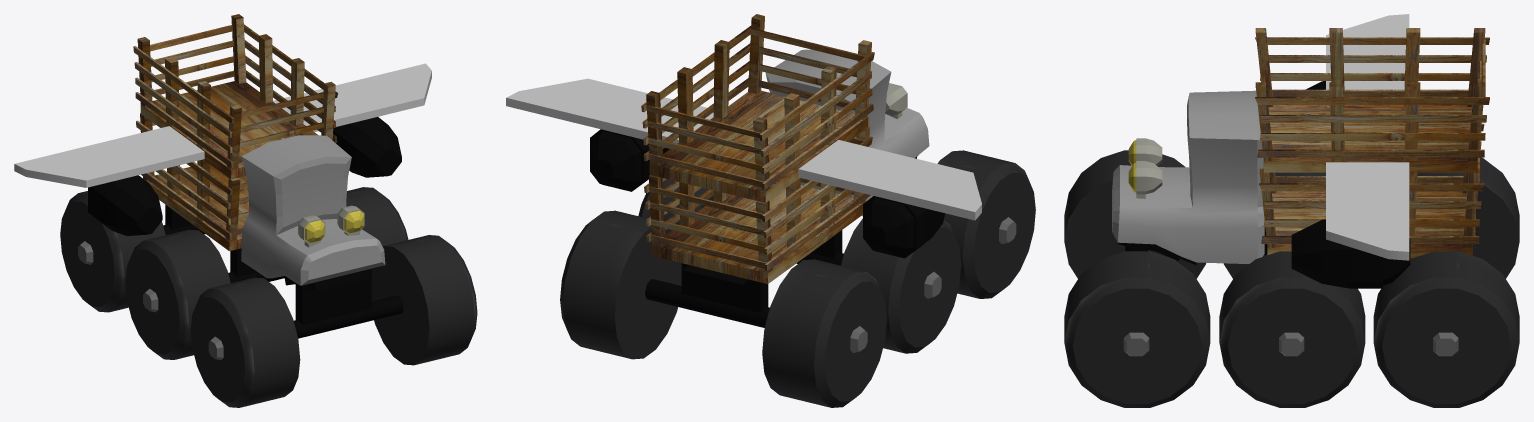
Rendered from Truck4.obj.
The picture shows the model from 3 angles, left to right: view 1: azimuth 30°, elevation 25°; view 2: azimuth 150°, elevation 25°; view 3: azimuth 270°, elevation 25°; orthographic projection. The views are drawn at different scales.
Parts seen in each view (by area): view 1: Box077, Cylinder048, Cylinder049, Cylinder046, Box118, Cylinder045, Box265, Box268, Box120, Cylinder020, Box119, Box121 (+24 smaller); view 2: Cylinder045, Cylinder050, Cylinder048, Cylinder046, Box118, Box268, Box283, Box265, Box120, Box077, Cylinder023, Box119 (+30 smaller); view 3: Cylinder049, Cylinder050, Box077, Cylinder047, Box268, Box120, Cylinder048, Box265, Box121, Cylinder045, Box283, Box118 (+21 smaller).
Boxes of the visible parts, x1,y1,x2,y2 form: Box077: (241,135,385,285); Cylinder048: (190,277,300,407); Cylinder049: (371,235,477,365); Cylinder046: (125,229,230,359); Box118: (14,126,204,187); Cylinder045: (60,191,165,312); Box265: (137,14,335,169); Box268: (140,81,318,179); Box120: (273,63,431,132); Cylinder020: (293,269,403,338); Box119: (88,175,162,235); Box121: (333,117,401,177); Cylinder045: (762,259,886,407); Cylinder050: (560,210,681,359); Cylinder048: (937,150,1035,298); Cylinder046: (841,218,961,353); Box118: (798,140,981,220); Box268: (649,90,868,202); Box283: (652,185,866,283); Box265: (646,14,871,191); Box120: (506,78,713,143); Box077: (765,49,929,216); Cylinder023: (645,263,769,327); Box119: (863,196,944,258); Cylinder049: (1064,251,1210,407); Cylinder050: (1373,251,1519,407); Box077: (1112,90,1264,263); Cylinder047: (1219,251,1365,407); Box268: (1263,105,1477,172); Box120: (1326,162,1409,260); Cylinder048: (1064,150,1206,278); Box265: (1255,28,1485,161); Box121: (1291,219,1410,288); Cylinder045: (1417,157,1519,278); Box283: (1267,191,1472,258); Box118: (1326,14,1409,89).
Size of the model in its own units: 435 by 245 by 352.
